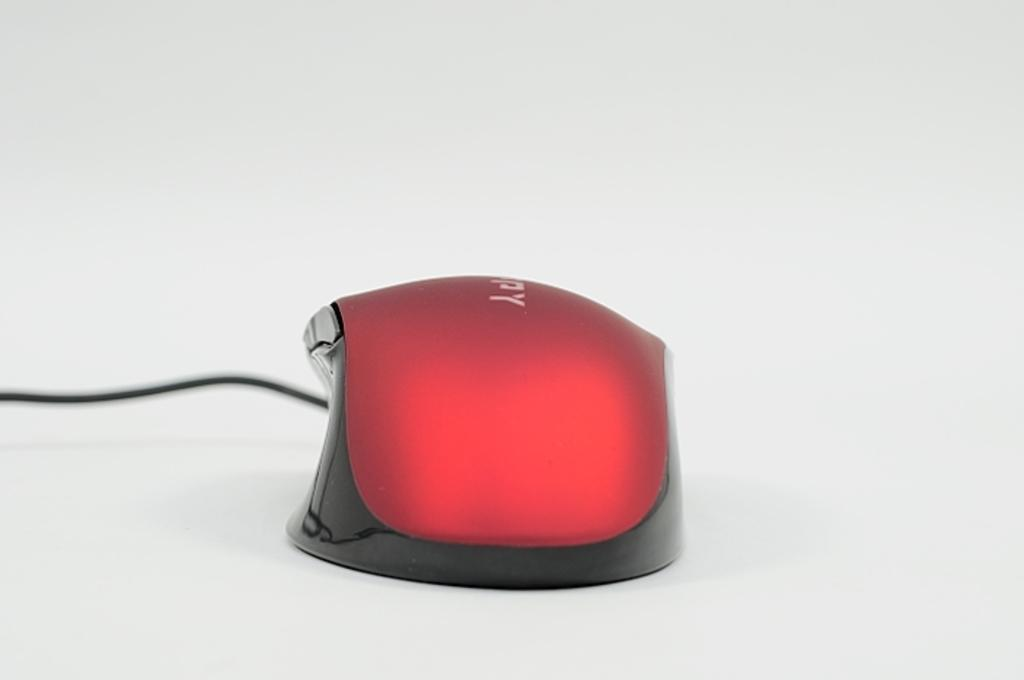Computer-mouse: (285, 268, 680, 591)
